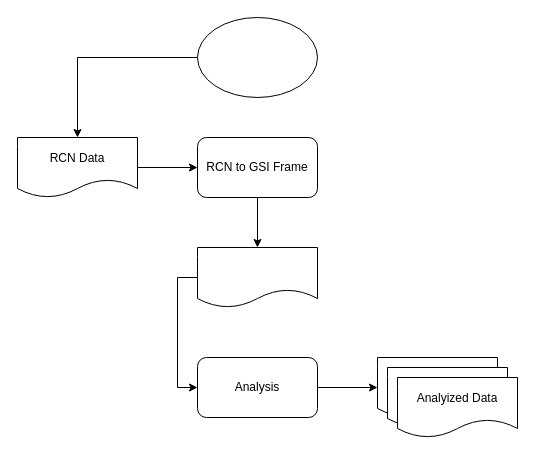
Image size: 535x455. Some labels were removed from this diagram. The shapes that lost their labels are listed below. From the top down, each one's centre as x and y in pixels, then its label:
At [257,57]: "Post Flight Analysis Start".
At [257,277]: "GSI Data".
